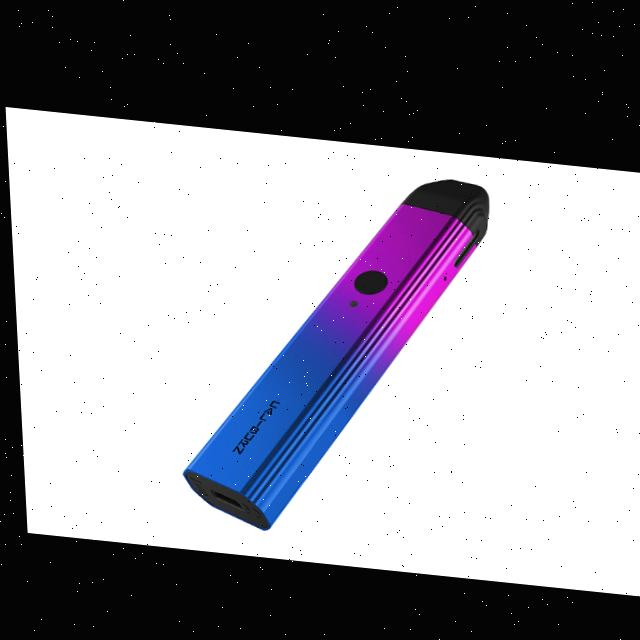vape: (177, 170, 488, 527)
